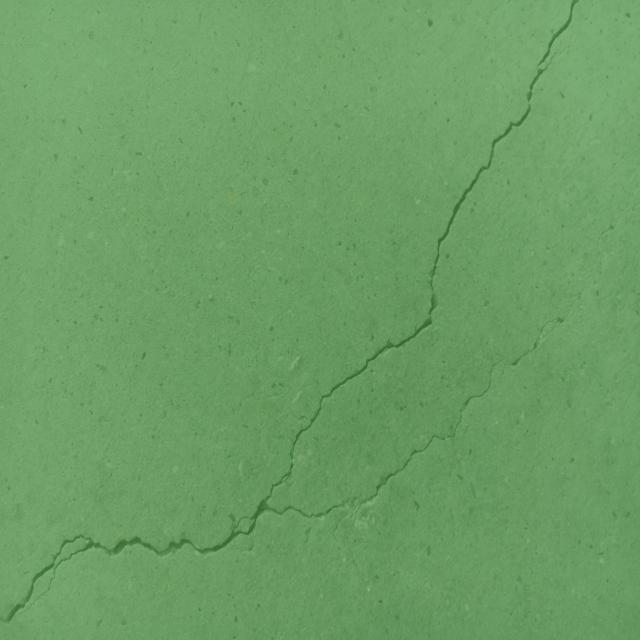crack: (0, 0, 579, 623), (512, 298, 576, 366)
